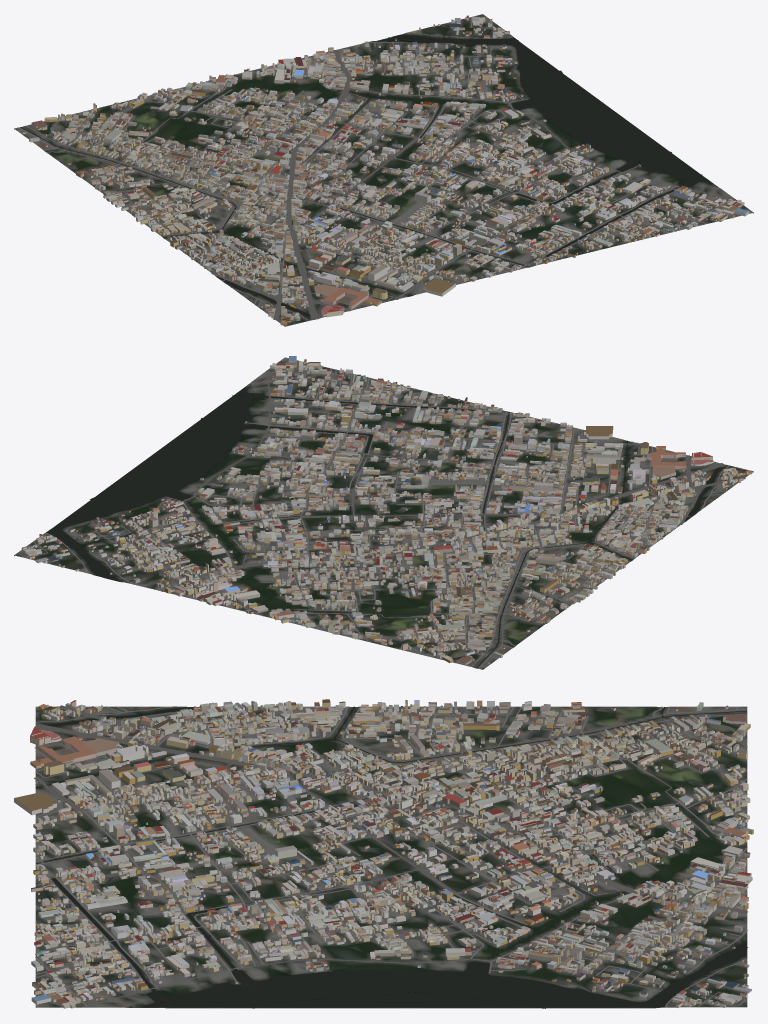
3 renders of one model, top to bottom at view 1: azimuth 30°, elevation 25°; view 2: azimuth 150°, elevation 25°; view 3: azimuth 270°, elevation 25°, orthographic. The views are drawn at different scales.
Visible parts, largest first — view 1: buildings, ground, water, roads; view 2: buildings, ground, roads, water; view 3: buildings, ground, water, roads.
Boxes of the visible parts, box(x1,y1,x2,y2) form: buildings: box(22, 15, 749, 325); ground: box(14, 14, 753, 326); water: box(20, 34, 717, 316); roads: box(17, 17, 735, 320); buildings: box(21, 356, 752, 665); ground: box(14, 357, 753, 669); roads: box(19, 368, 745, 668); water: box(46, 383, 720, 668); buildings: box(14, 699, 753, 1008); ground: box(35, 706, 747, 1008); water: box(35, 706, 747, 1008); roads: box(34, 705, 747, 1007).
Bounding box in the file's own units: 1416 × 30.33 × 1456.
